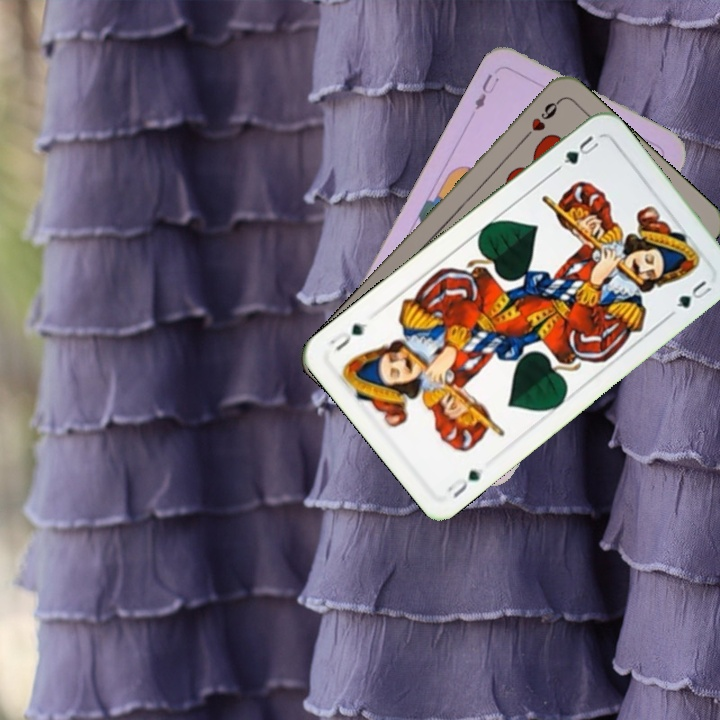EU: (470, 70, 502, 113)
GU: (552, 131, 602, 173), (443, 465, 485, 501)
H9: (519, 96, 563, 144)
